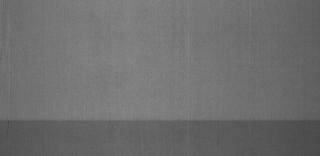welding line: (4, 116, 320, 130)
